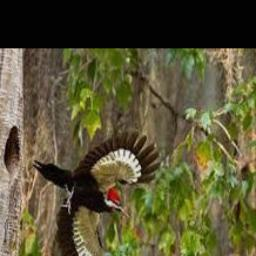Woodpecker: (33, 129, 164, 256)
